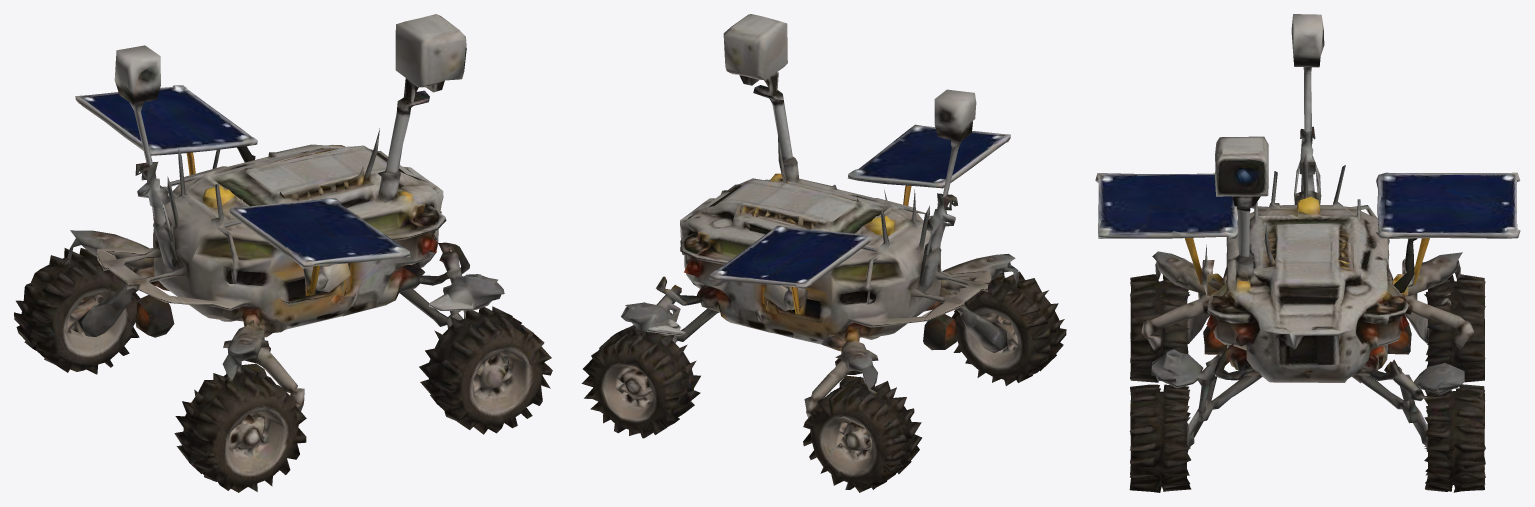
File: rover-marte.glb
3 renders of one model, left to right at view 1: azimuth 30°, elevation 25°; view 2: azimuth 150°, elevation 25°; view 3: azimuth 270°, elevation 25°, orthographic. The views are drawn at different scales.
Parts seen in each view (by area): view 1: tripo_node_74605ad6-0e99-4101-9b69-f85d3b4cb5e5; view 2: tripo_node_74605ad6-0e99-4101-9b69-f85d3b4cb5e5; view 3: tripo_node_74605ad6-0e99-4101-9b69-f85d3b4cb5e5.
Part boxes in pixels (<box>): tripo_node_74605ad6-0e99-4101-9b69-f85d3b4cb5e5: <box>14,14,552,492</box>; tripo_node_74605ad6-0e99-4101-9b69-f85d3b4cb5e5: <box>581,14,1066,492</box>; tripo_node_74605ad6-0e99-4101-9b69-f85d3b4cb5e5: <box>1095,14,1520,492</box>.
Size of the model in its own units: 0.8761 by 0.9031 by 1.
Materials: 1 (1 with a texture image).
